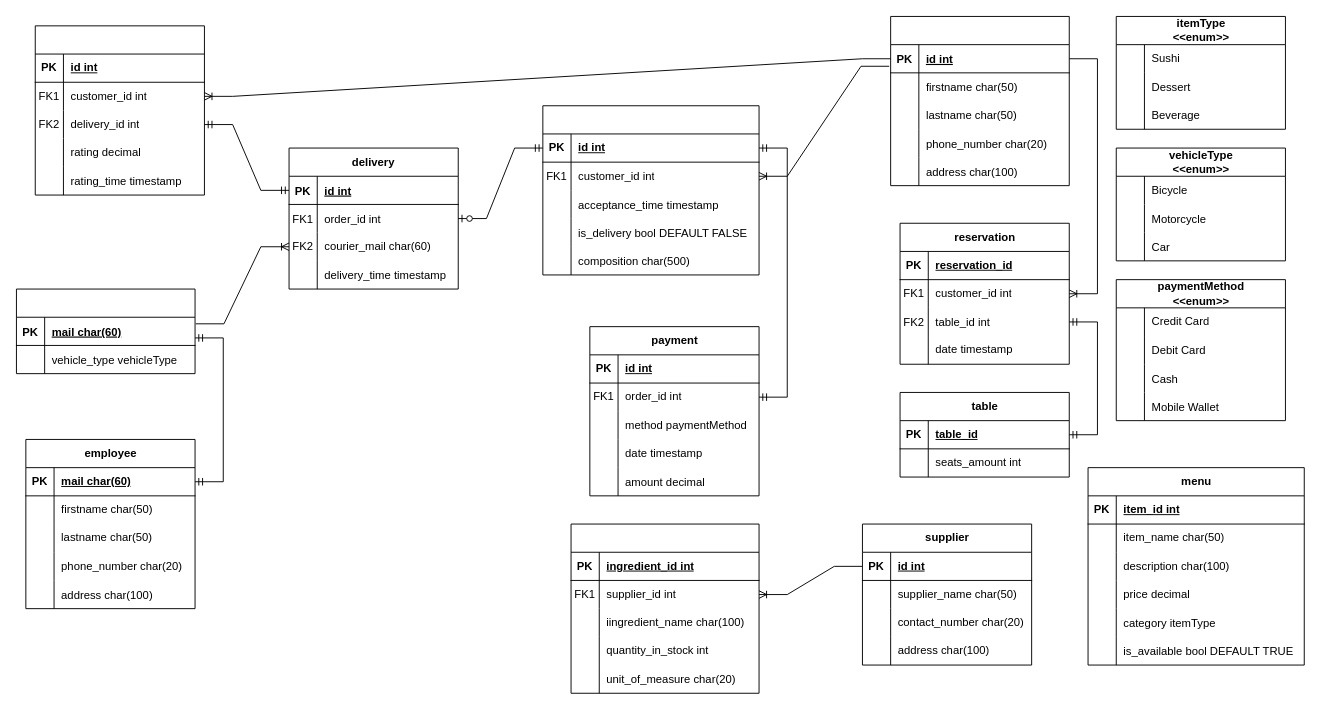
The diagram is 1321 pixels wide and 710 high, and some of its shapes have lost their labels. The shapes that lost their labels are listed below. From the top down, each one's box as (x1, y1, x2, y2) in pixels, then its label:
(34, 25, 204, 195): delivery_rating
(890, 16, 1069, 186): customer
(542, 105, 759, 275): order
(16, 288, 195, 374): courier
(570, 523, 759, 693): Inventory
